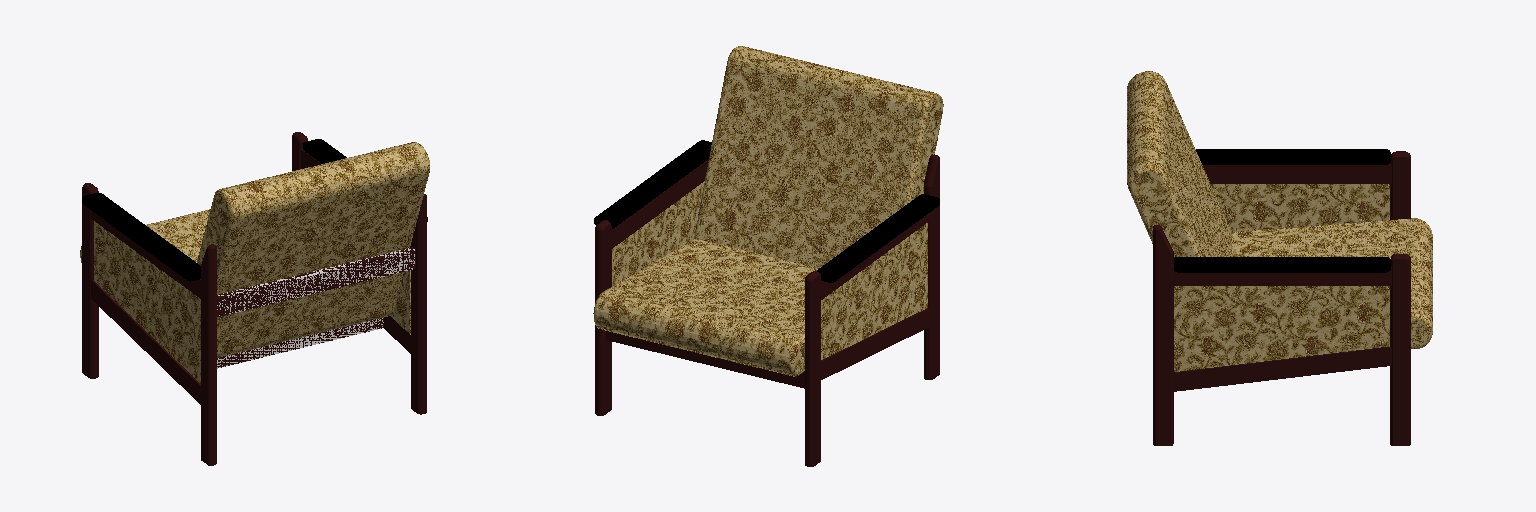
3 views of the same model, side by side, from view 1: azimuth 30°, elevation 25°; view 2: azimuth 150°, elevation 25°; view 3: azimuth 270°, elevation 25° (orthographic).
Parts seen in each view (by area): view 1: mesh12_mesh12-geometry, mesh7_mesh7-geometry, mesh19_mesh19-geometry, mesh20_mesh20-geometry, mesh25_mesh25-geometry, mesh1_mesh1-geometry, mesh23_mesh23-geometry, mesh4_mesh4-geometry, mesh18_mesh18-geometry, mesh11_mesh11-geometry, mesh3_mesh3-geometry, mesh9_mesh9-geometry (+1 smaller); view 2: mesh12_mesh12-geometry, mesh11_mesh11-geometry, mesh7_mesh7-geometry, mesh9_mesh9-geometry, mesh23_mesh23-geometry, mesh1_mesh1-geometry, mesh20_mesh20-geometry, mesh2_mesh2-geometry, mesh28_mesh28-geometry, mesh4_mesh4-geometry, mesh17_mesh17-geometry, mesh5_mesh5-geometry (+1 smaller); view 3: mesh9_mesh9-geometry, mesh12_mesh12-geometry, mesh11_mesh11-geometry, mesh7_mesh7-geometry, mesh25_mesh25-geometry, mesh6_mesh6-geometry, mesh28_mesh28-geometry, mesh3_mesh3-geometry, mesh2_mesh2-geometry, mesh1_mesh1-geometry, mesh5_mesh5-geometry, mesh23_mesh23-geometry.
Part boxes in pixels (bbox=[...]): mesh12_mesh12-geometry: bbox=[197, 142, 429, 357]; mesh7_mesh7-geometry: bbox=[94, 221, 200, 383]; mesh19_mesh19-geometry: bbox=[217, 247, 415, 316]; mesh20_mesh20-geometry: bbox=[201, 244, 216, 465]; mesh25_mesh25-geometry: bbox=[411, 194, 426, 414]; mesh1_mesh1-geometry: bbox=[82, 193, 200, 280]; mesh23_mesh23-geometry: bbox=[82, 183, 98, 378]; mesh4_mesh4-geometry: bbox=[91, 280, 200, 404]; mesh18_mesh18-geometry: bbox=[217, 318, 383, 368]; mesh11_mesh11-geometry: bbox=[80, 209, 209, 262]; mesh3_mesh3-geometry: bbox=[91, 211, 200, 298]; mesh9_mesh9-geometry: bbox=[390, 270, 410, 334]; mesh12_mesh12-geometry: bbox=[694, 46, 943, 268]; mesh11_mesh11-geometry: bbox=[593, 239, 817, 376]; mesh7_mesh7-geometry: bbox=[821, 223, 927, 359]; mesh9_mesh9-geometry: bbox=[612, 181, 704, 285]; mesh23_mesh23-geometry: bbox=[805, 271, 820, 466]; mesh1_mesh1-geometry: bbox=[817, 194, 939, 282]; mesh20_mesh20-geometry: bbox=[924, 154, 939, 379]; mesh2_mesh2-geometry: bbox=[594, 140, 711, 228]; mesh28_mesh28-geometry: bbox=[595, 220, 611, 415]; mesh4_mesh4-geometry: bbox=[821, 308, 930, 379]; mesh17_mesh17-geometry: bbox=[606, 331, 804, 388]; mesh5_mesh5-geometry: bbox=[612, 159, 708, 248]; mesh9_mesh9-geometry: bbox=[1174, 286, 1389, 371]; mesh12_mesh12-geometry: bbox=[1127, 71, 1231, 257]; mesh11_mesh11-geometry: bbox=[1232, 218, 1432, 348]; mesh7_mesh7-geometry: bbox=[1211, 184, 1389, 231]; mesh25_mesh25-geometry: bbox=[1153, 225, 1173, 445]; mesh6_mesh6-geometry: bbox=[1172, 346, 1391, 391]; mesh28_mesh28-geometry: bbox=[1390, 254, 1410, 445]; mesh3_mesh3-geometry: bbox=[1203, 164, 1391, 183]; mesh2_mesh2-geometry: bbox=[1174, 257, 1390, 272]; mesh1_mesh1-geometry: bbox=[1196, 149, 1390, 164]; mesh5_mesh5-geometry: bbox=[1172, 266, 1391, 285]; mesh23_mesh23-geometry: bbox=[1390, 151, 1410, 219].
Bounding box in the file's own units: 0.5425 × 0.5912 × 0.5968.
Materials: 5 (1 with a texture image).